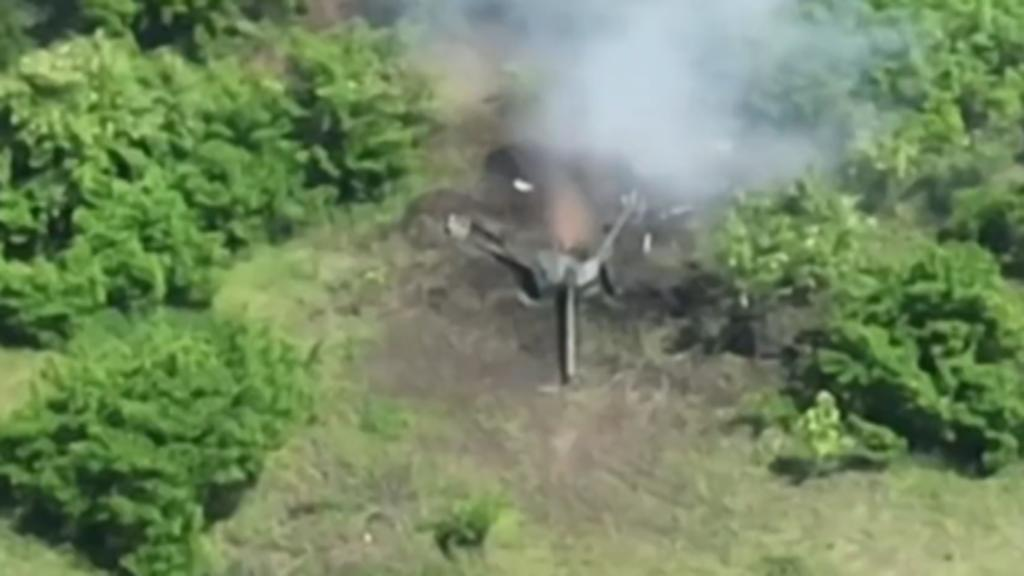ART: (456, 187, 672, 384)
